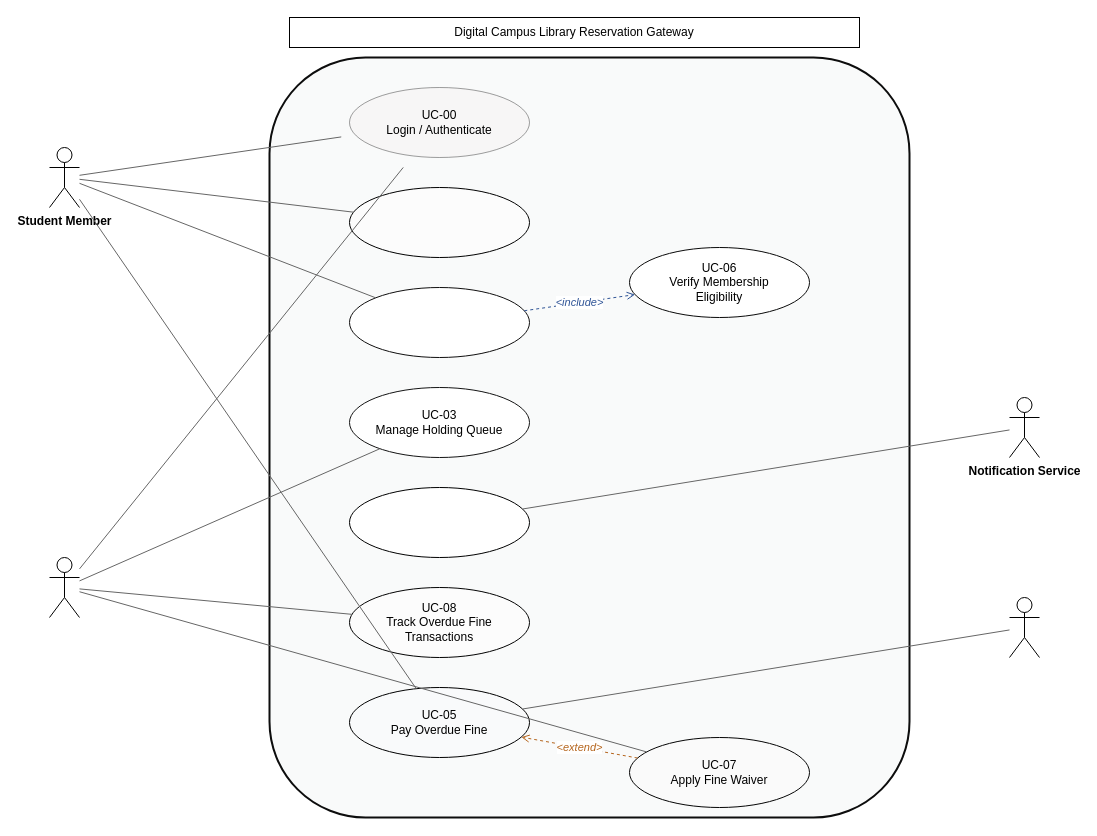
Some shapes in this 1097 by 836 pixel diagram are drawn without their labels. Here are the shapes that lost their labels. From the top down, the centre of each, then its label:
At pixel 439 222: "UC-01 Search ISBN Catalog".
At pixel 439 322: "UC-02 Place Hold Request".
At pixel 439 522: "UC-04 Send Hold-Ready Notification".
At pixel 64 587: "Head Librarian".
At pixel 1024 627: "Payment Gateway".
